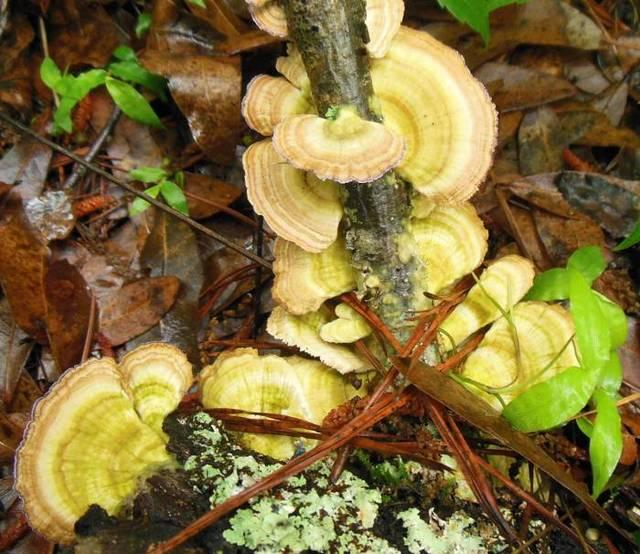Non-edible Mushroom: (210, 16, 613, 463), (11, 340, 194, 544)
